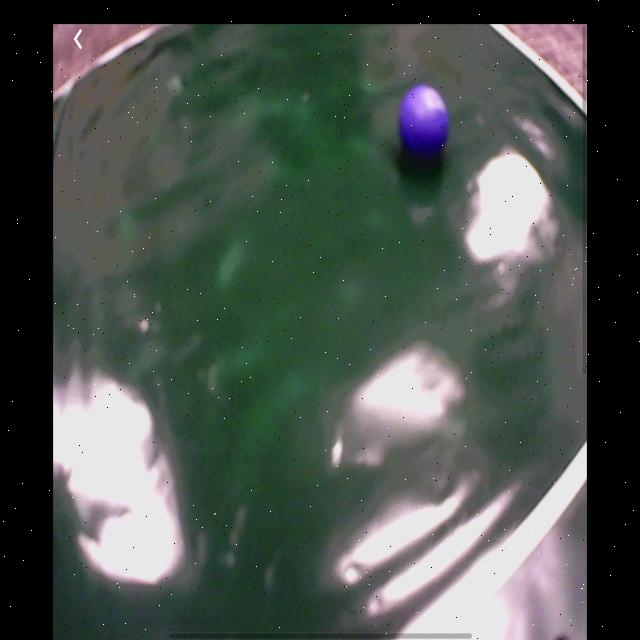ball: (399, 85, 449, 162)
